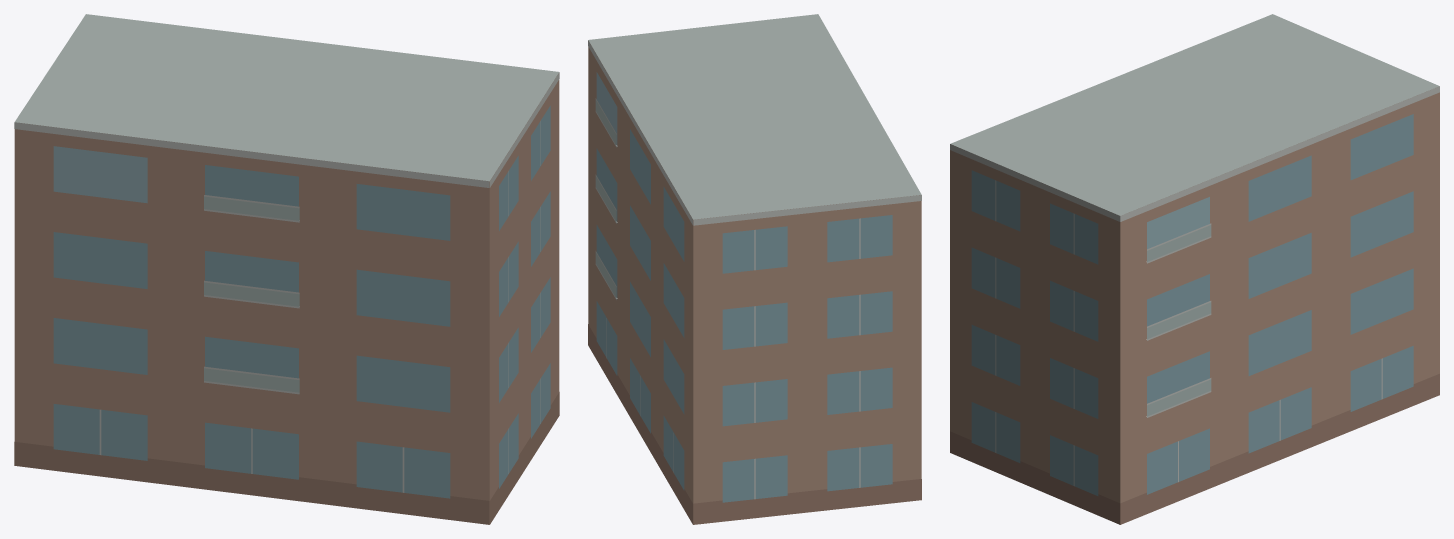
Rendered from survey-upis-32891637.glb.
3 renders of one model, left to right at view 1: azimuth 30°, elevation 25°; view 2: azimuth 150°, elevation 25°; view 3: azimuth 270°, elevation 25°, orthographic. The views are drawn at different scales.
Visible parts, largest first — view 1: survey-upis-32891637.tmp; view 2: survey-upis-32891637.tmp; view 3: survey-upis-32891637.tmp.
Boxes of the visible parts, bbox=[...] form: survey-upis-32891637.tmp: bbox=[14, 14, 559, 524]; survey-upis-32891637.tmp: bbox=[588, 14, 921, 524]; survey-upis-32891637.tmp: bbox=[950, 14, 1439, 524].
Bounding box in the file's own units: 17.11 × 12.2 × 17.54.
